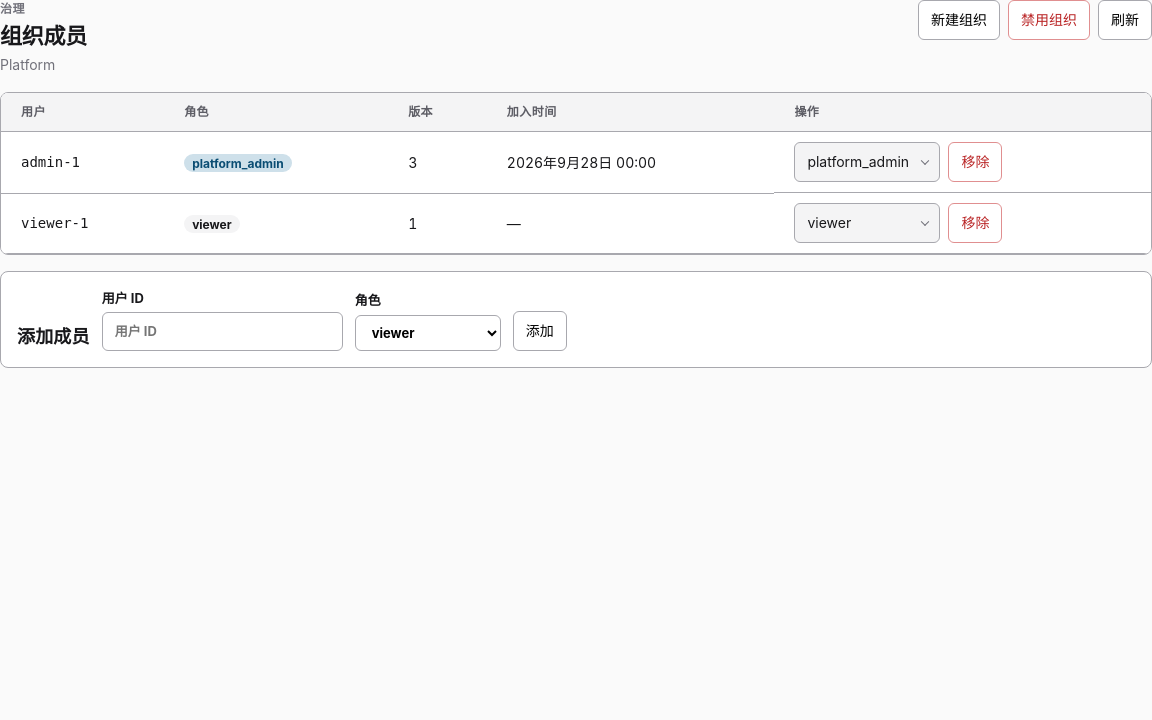
OrganizationPage disable confirmation (TASK-363) › adopts the version the server holds after a conflict so the retry carries it
Click the button with test id "organization-disable-open". click: coordinates (1049, 20)
box: [1008, 0, 1090, 40]
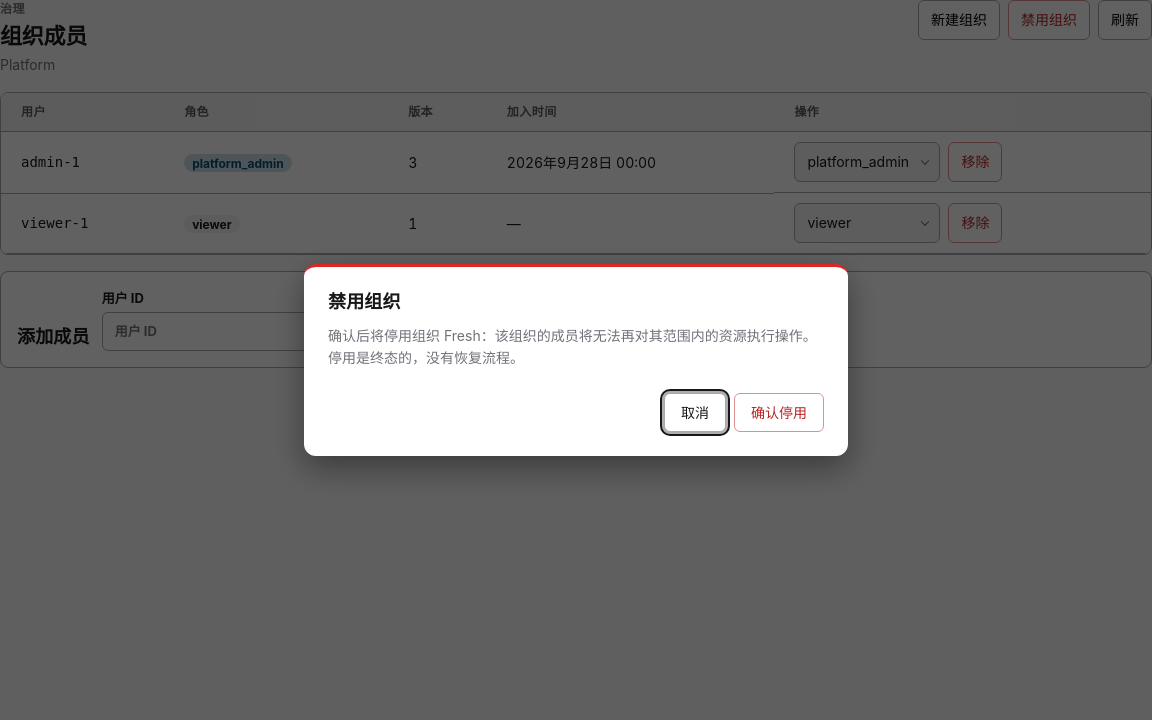
Click the button "确认停用". click: coordinates (779, 412)
box: [734, 393, 824, 432]
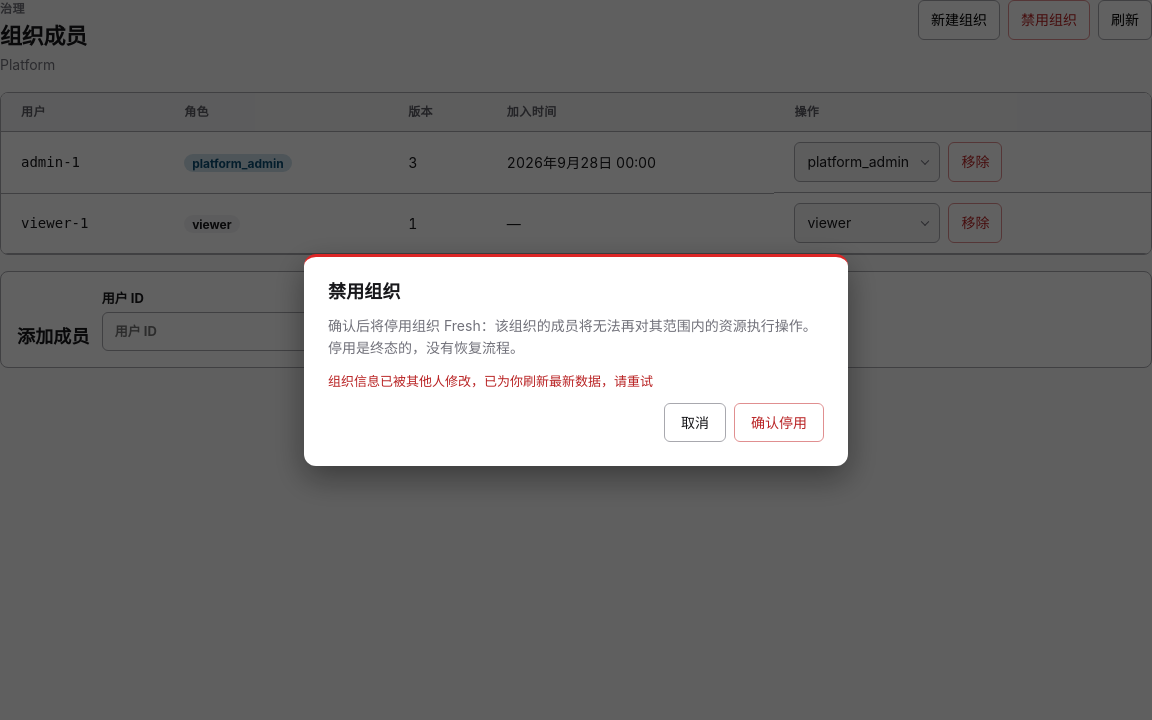
Now the message "组织信息已被其他人修改，已为你刷新最新数据，请重试" is shown, box [328, 372, 653, 388]
Click the button "确认停用". click: coordinates (779, 423)
box: [734, 403, 824, 442]
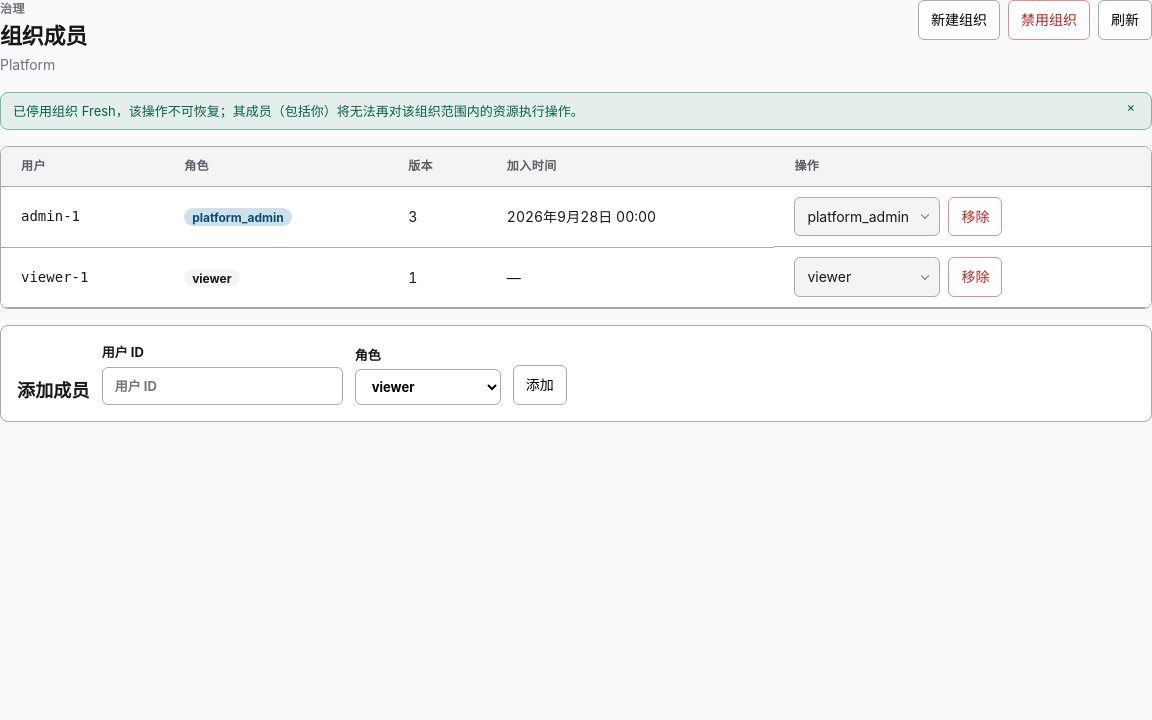
Now the dialog is gone
